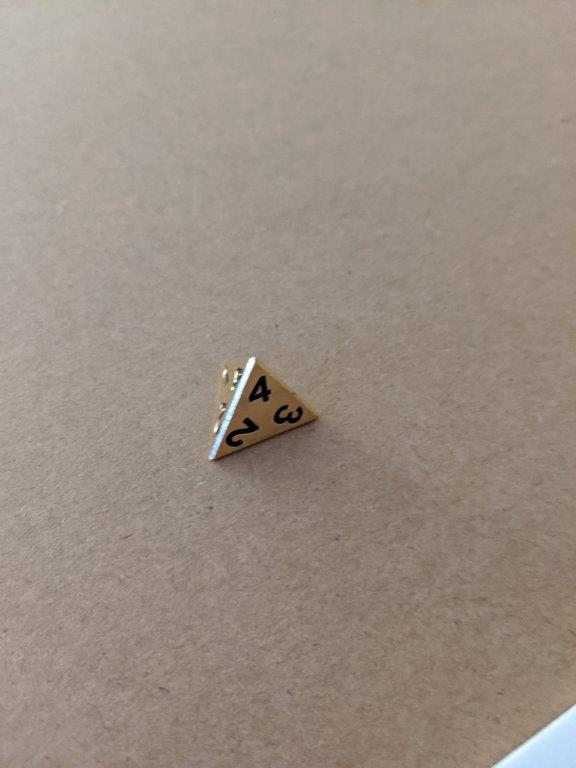d4-4: (210, 352, 321, 462)
